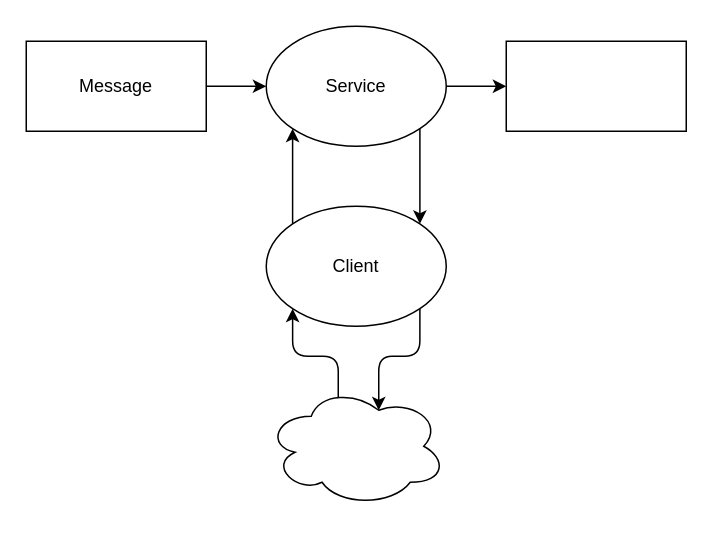
Image size: 713x533. Some labels were removed from this diagram. Here are the shapes that lost their labels. From the top down, the box of each, then its label:
(505, 40, 686, 131): Model
(265, 385, 446, 506): API
